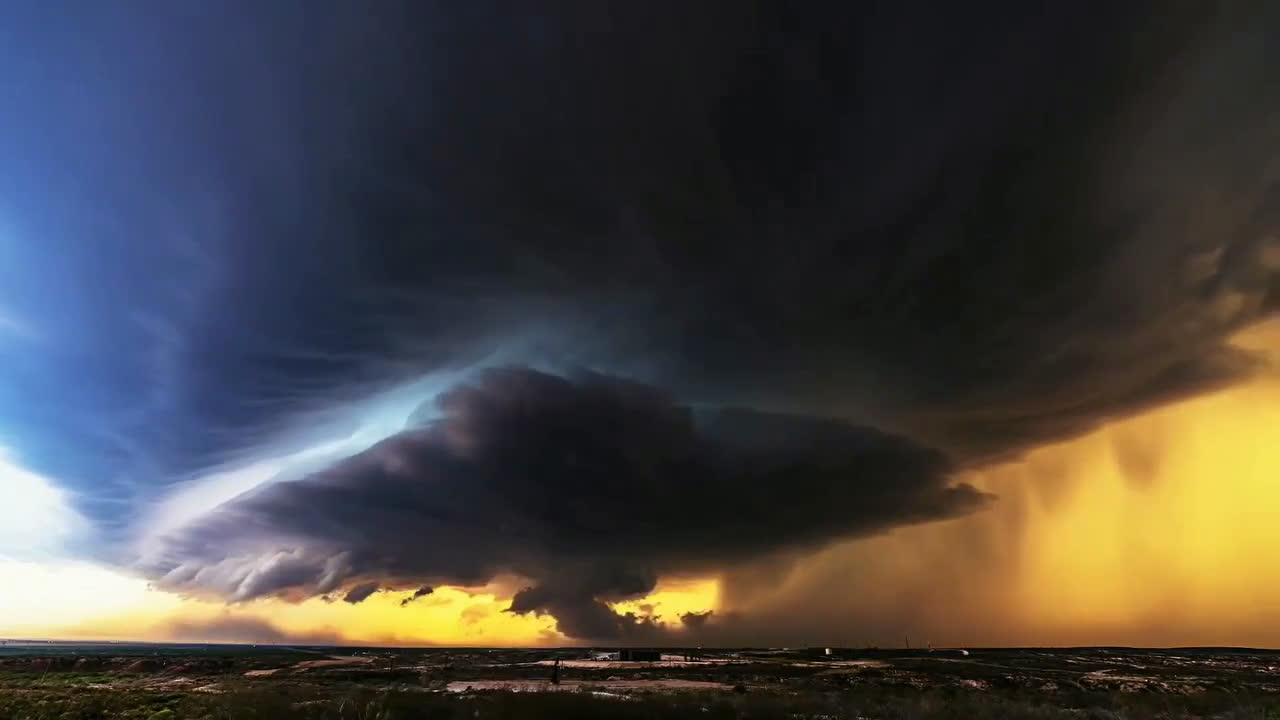RFD: (507, 377, 1278, 651)
mesocyclone: (0, 0, 1280, 511)
striations: (403, 403, 464, 433)
wall cloud: (146, 360, 1000, 638)
